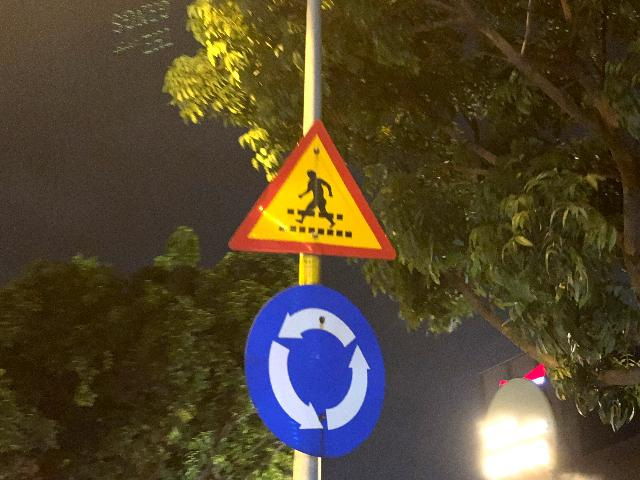duong-nguoi-di-bo-cat-ngang: (229, 118, 395, 260)
noi-giao-nhau-chay-theo-vong-xuyen: (244, 283, 388, 459)
